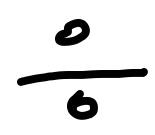div: (14, 18, 149, 123)
